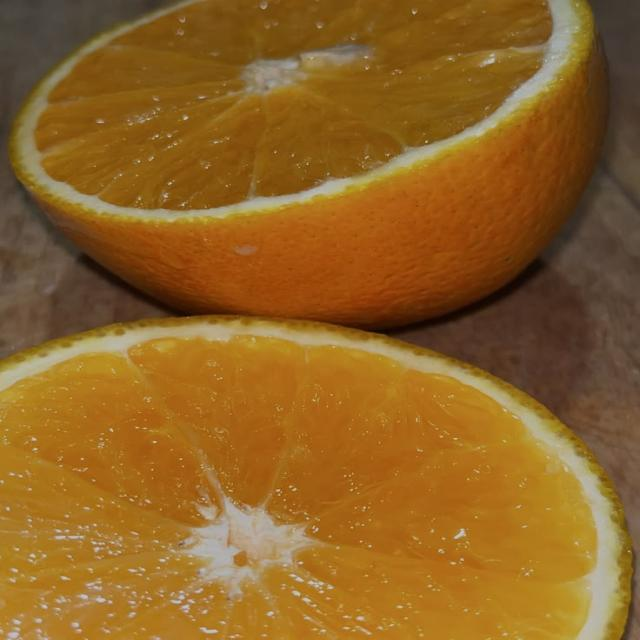orange: (0, 318, 631, 639), (11, 0, 606, 326)
